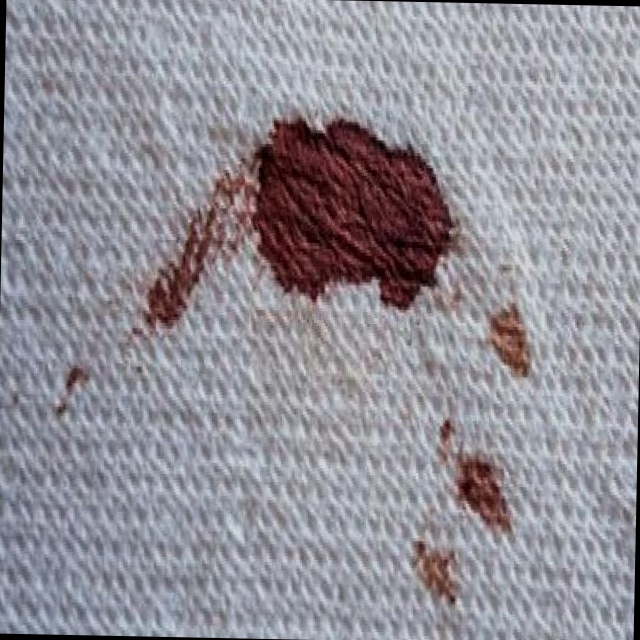blood: (249, 118, 456, 302)
